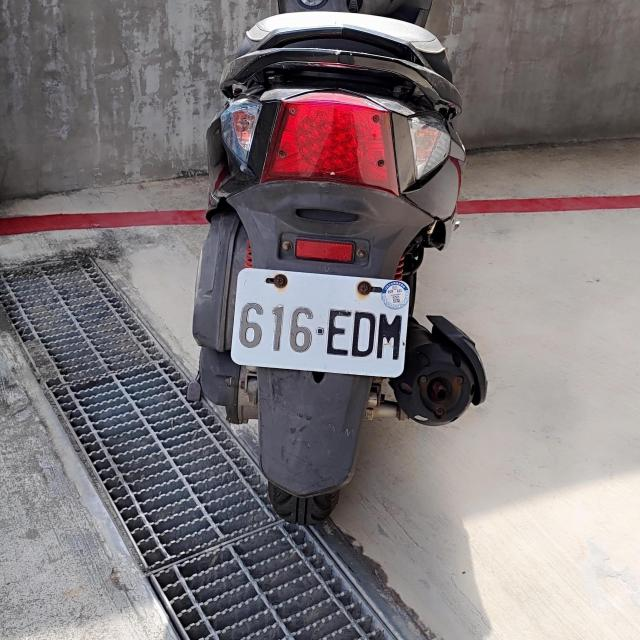W: (232, 271, 409, 374)
